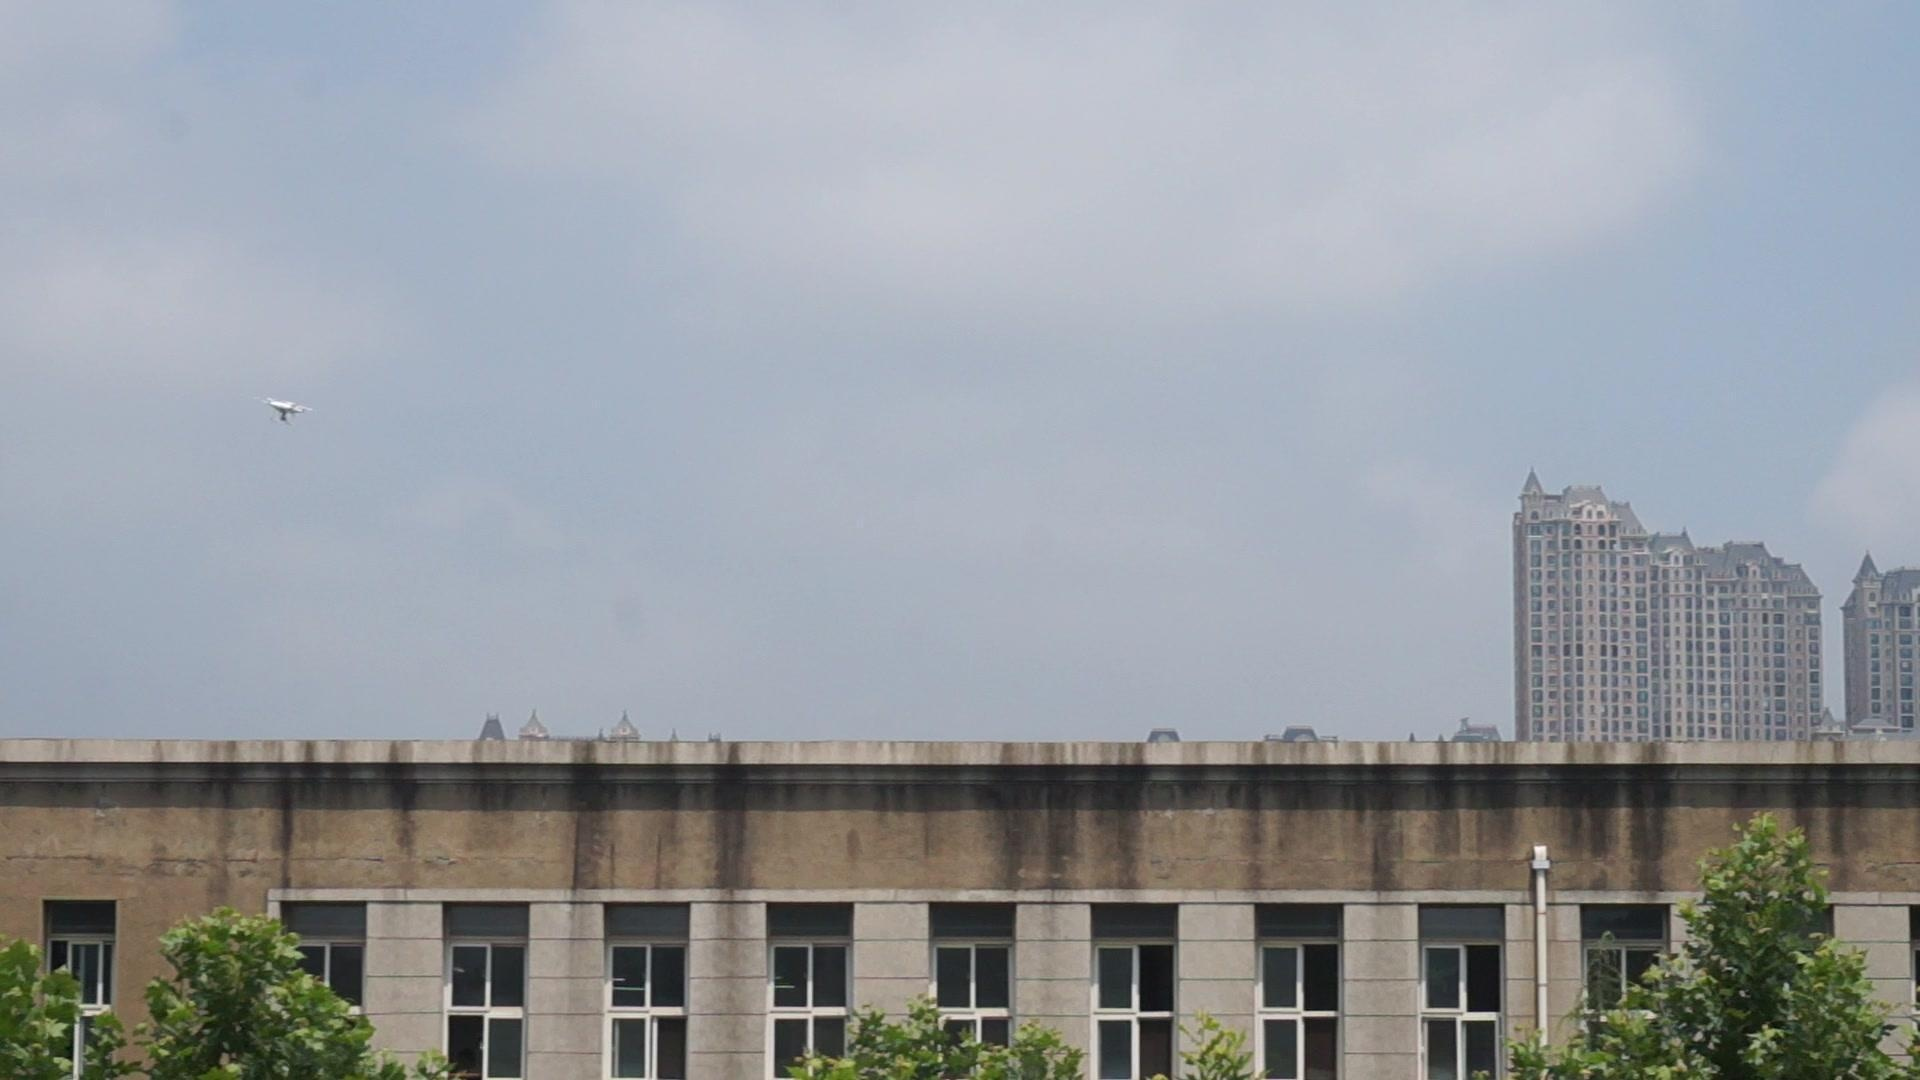UAV: (256, 398, 314, 427)
